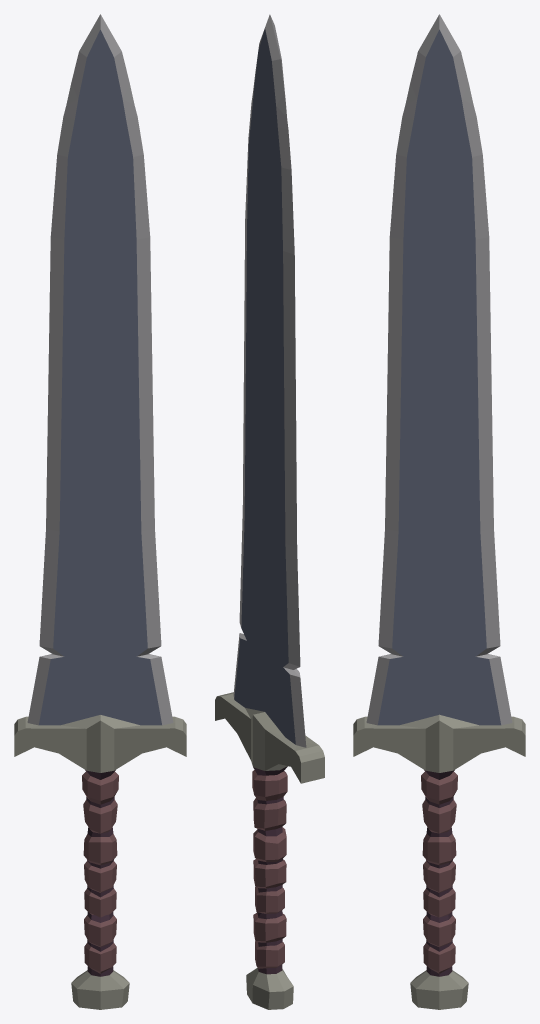
The model's file is Sword.gltf.
3 renders of one model, left to right at view 1: azimuth 90°, elevation 25°; view 2: azimuth 210°, elevation 25°; view 3: azimuth 270°, elevation 25°, orthographic.
Visible parts, largest first — view 1: Sword_big; view 2: Sword_big; view 3: Sword_big.
Boxes of the visible parts, x1=… form: Sword_big: x1=14, y1=14, x2=186, y2=1009; Sword_big: x1=215, y1=14, x2=324, y2=1009; Sword_big: x1=353, y1=14, x2=525, y2=1009.
Bounding box in the file's own units: 0.1013 × 2.73 × 0.4331.
